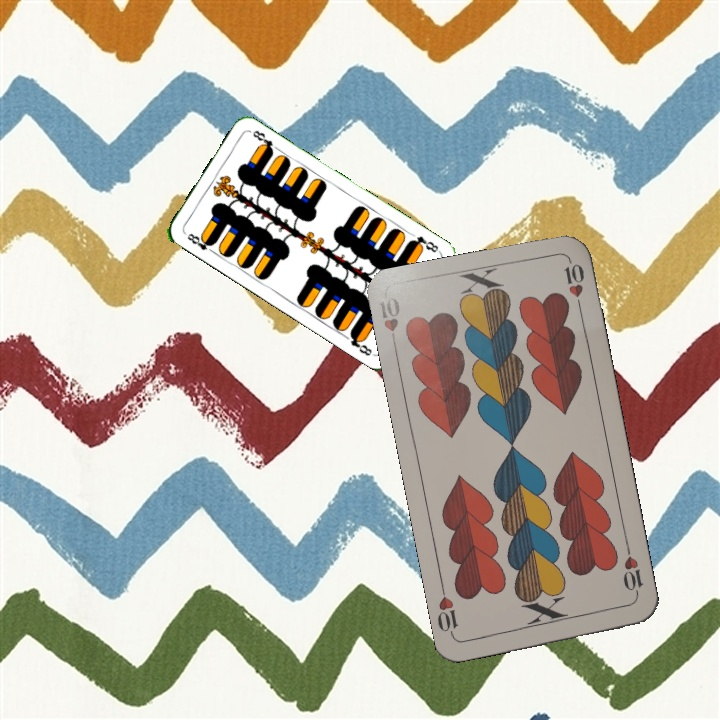E8: (183, 229, 217, 256), (405, 232, 442, 255)
H10: (375, 293, 403, 352), (619, 542, 646, 601)
